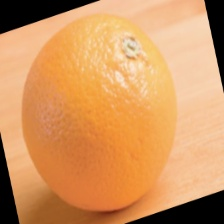orange: (23, 34, 221, 172)
